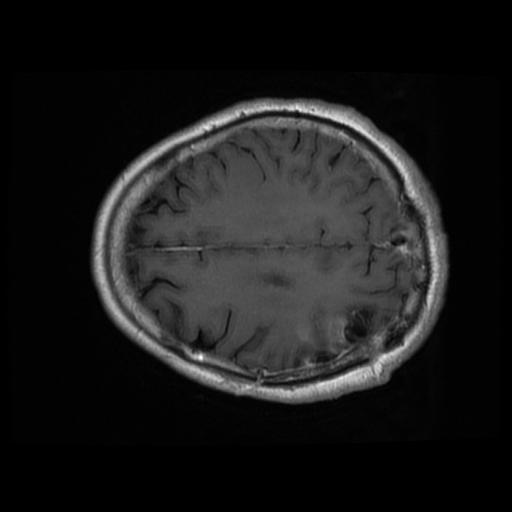glioma: (295, 302, 399, 367)
